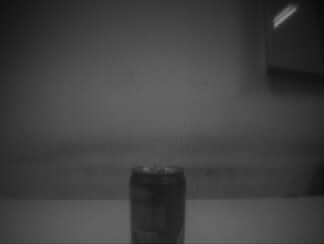Tin can: (128, 164, 187, 244)
